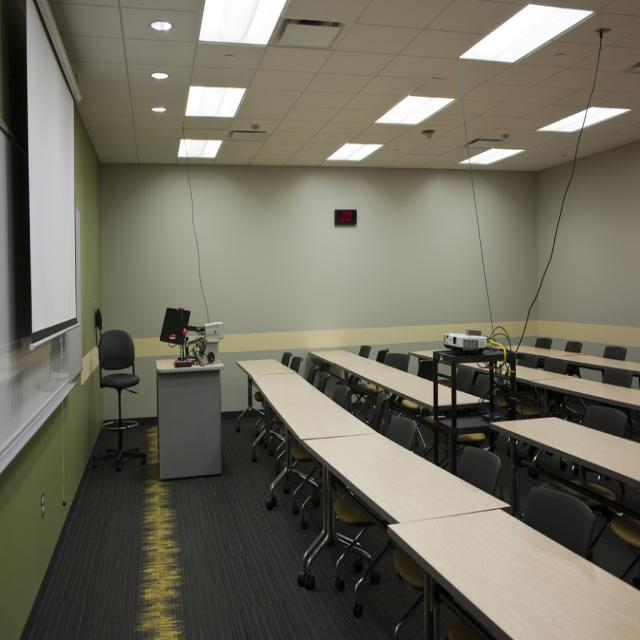chair: (266, 355, 321, 520), (92, 327, 145, 470), (523, 482, 596, 558), (248, 362, 286, 462), (591, 512, 640, 584), (457, 445, 502, 494), (581, 403, 628, 438)
desk: (268, 342, 592, 638)
